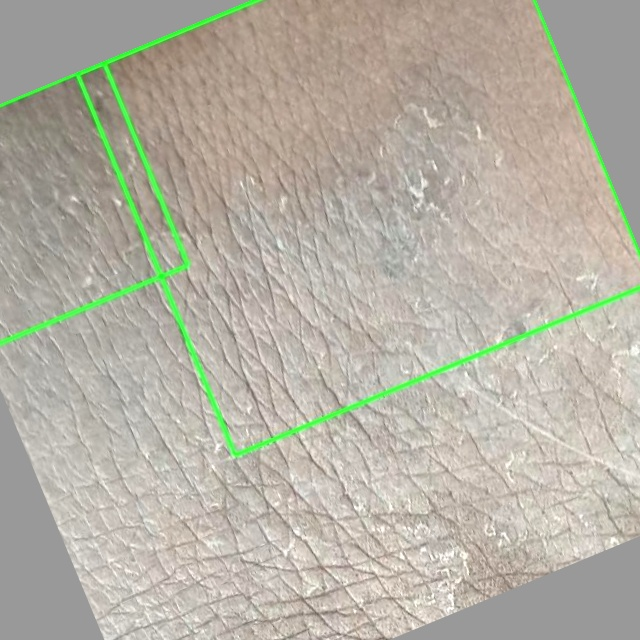Eczema: (77, 0, 639, 454), (0, 62, 187, 343)
